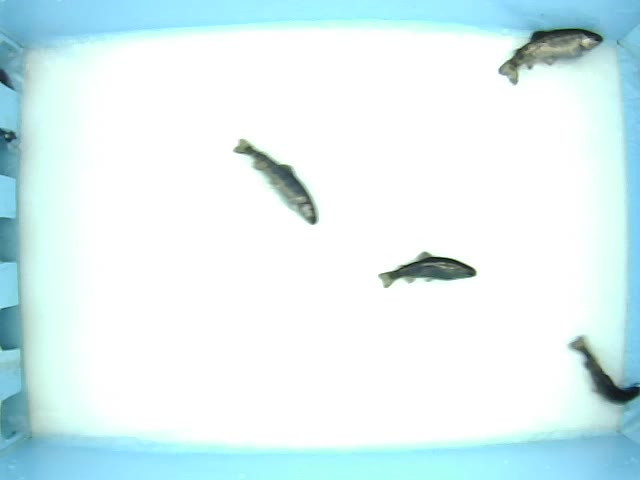fish: (232, 137, 317, 227), (497, 25, 602, 87), (567, 332, 640, 408), (376, 251, 478, 289)
